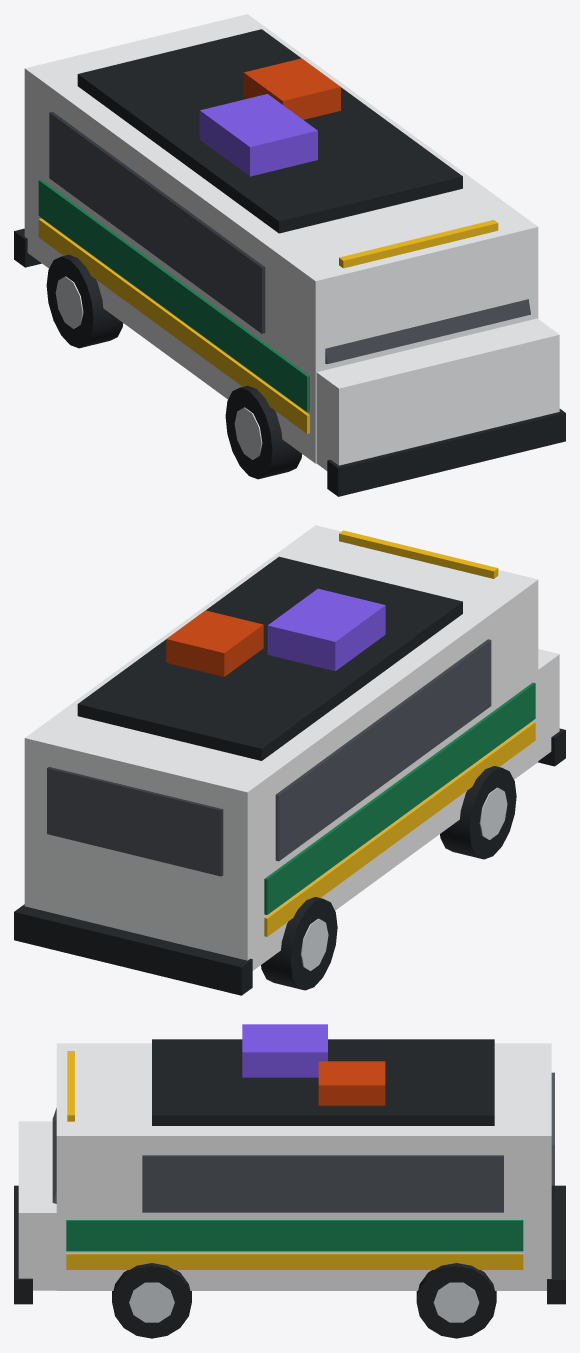
The model's file is trotro.glb.
3 renders of one model, top to bottom at view 1: azimuth 30°, elevation 25°; view 2: azimuth 150°, elevation 25°; view 3: azimuth 270°, elevation 25°, orthographic. The views are drawn at different scales.
Parts seen in each view (by area): view 1: Trotro; view 2: Trotro; view 3: Trotro.
Part boxes in pixels (<box>): Trotro: <box>14,14,565,496</box>; Trotro: <box>14,525,565,995</box>; Trotro: <box>14,1024,565,1338</box>.
Bounding box in the file's own units: 2.54 × 2.73 × 5.8.
